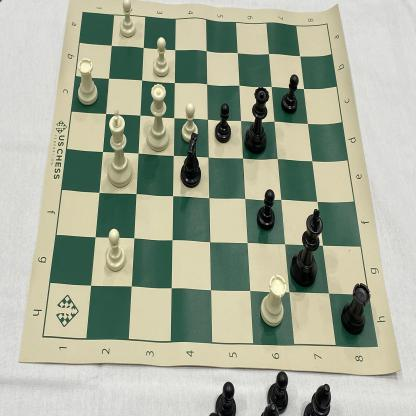black-king: (290, 204, 324, 293)
black-knight: (176, 133, 204, 190)
black-pawn: (211, 98, 235, 145), (255, 188, 278, 233), (280, 71, 301, 116)
black-queen: (245, 83, 270, 156)
black-rook: (338, 278, 372, 341)
white-king: (99, 109, 136, 189)
white-pawn: (101, 226, 127, 274), (149, 35, 171, 78), (179, 98, 200, 143), (117, 0, 139, 41)
white-queen: (144, 83, 173, 153)
white-rook: (258, 271, 289, 328), (72, 53, 99, 107)
